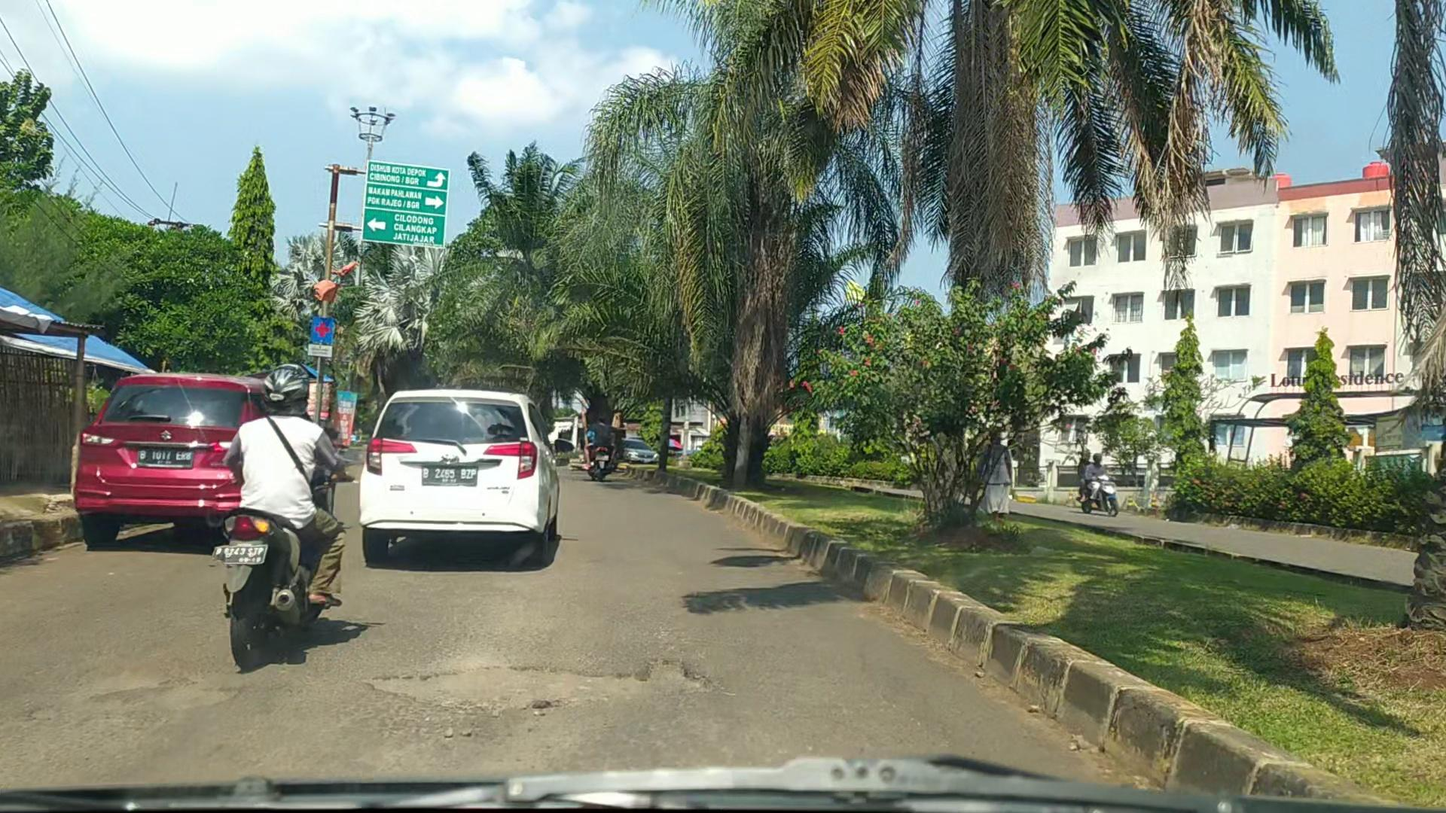pothole: (361, 653, 723, 716), (79, 661, 185, 701), (158, 684, 244, 713), (29, 706, 60, 722)
